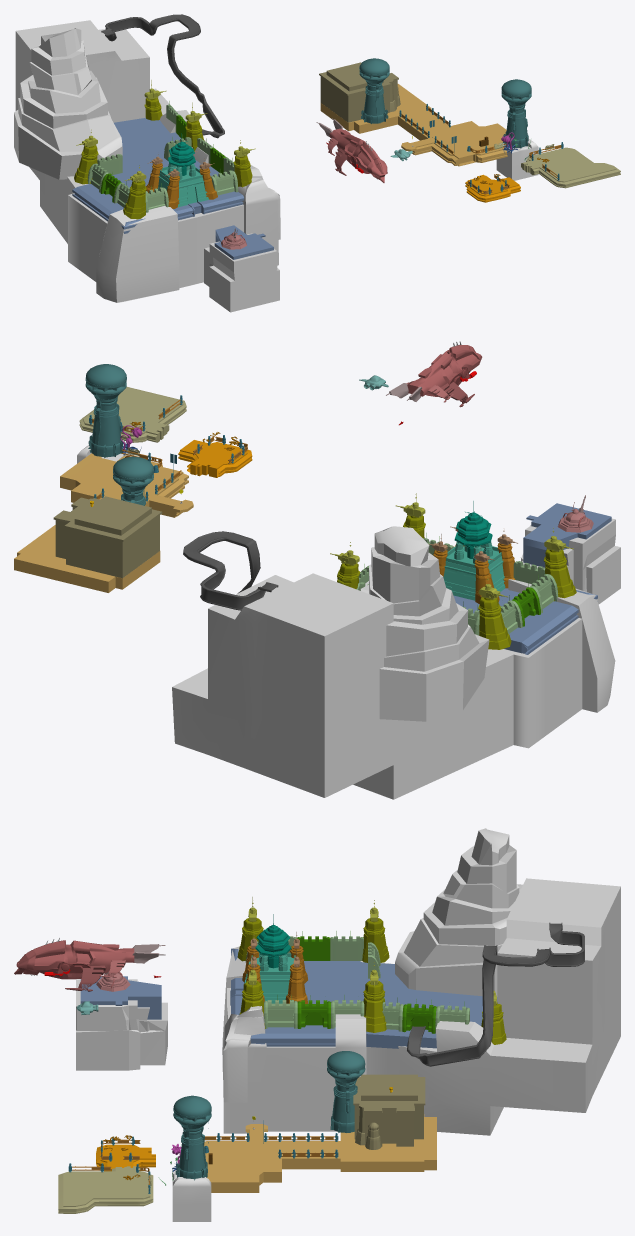
The model's file is platforms finished.fbx.
The picture shows the model from 3 angles, top to bottom: view 1: azimuth 30°, elevation 25°; view 2: azimuth 150°, elevation 25°; view 3: azimuth 270°, elevation 25°; orthographic projection. The views are drawn at different scales.
Parts seen in each view (by area): view 1: Citadel_rcok_plat, rock_formation, Platform_C, base (×4), Far_Plat_A, arch_rock_plat, Base (×2), Platform_A, magnet_ion_path, Far_Plat_B, Citadel1:citadel_main, City_wall (×2) (+4 smaller); view 2: Citadel_rcok_plat, rock_formation, base (×3), Platform_C, Base (×2), arch_rock_plat, magnet_ion_path, Platform_A, Far_Plat_A, Far_Plat_B, Platform_B, Citadel1:citadel_main (+3 smaller); view 3: Citadel_rcok_plat, rock_formation, base (×6), Platform_C, Far_Plat_A, arch_rock_plat, Base (×2), magnet_ion_path, Platform_A, City_wall (×4), Cit_wall_opening (×3), rock_front (+5 smaller).
Boxes of the visible parts, bbox=[...] form: Citadel_rcok_plat: bbox=[15, 20, 280, 302]; rock_formation: bbox=[14, 28, 122, 179]; Platform_C: bbox=[320, 84, 507, 166]; base (×4): bbox=[74, 62, 398, 187]; Far_Plat_A: bbox=[72, 118, 244, 233]; arch_rock_plat: bbox=[204, 233, 279, 312]; Base (×2): bbox=[359, 58, 531, 148]; Platform_A: bbox=[521, 147, 620, 188]; magnet_ion_path: bbox=[101, 14, 224, 138]; Far_Plat_B: bbox=[214, 225, 273, 259]; Citadel1:citadel_main: bbox=[157, 165, 208, 207]; City_wall (×2): bbox=[145, 170, 238, 212]; Citadel_rcok_plat: bbox=[172, 573, 615, 799]; rock_formation: bbox=[360, 526, 489, 721]; base (×3): bbox=[53, 345, 511, 649]; Platform_C: bbox=[14, 453, 193, 592]; Base (×2): bbox=[85, 364, 153, 505]; arch_rock_plat: bbox=[521, 518, 620, 604]; magnet_ion_path: bbox=[183, 531, 278, 610]; Platform_A: bbox=[79, 387, 186, 442]; Far_Plat_A: bbox=[453, 588, 597, 654]; Far_Plat_B: bbox=[523, 503, 611, 567]; Platform_B: bbox=[178, 440, 252, 477]; Citadel1:citadel_main: bbox=[443, 544, 505, 600]; Citadel_rcok_plat: bbox=[222, 878, 620, 1135]; rock_formation: bbox=[395, 828, 522, 996]; base (×6): bbox=[14, 918, 425, 1146]; Platform_C: bbox=[204, 1114, 436, 1192]; Far_Plat_A: bbox=[230, 948, 497, 1048]; arch_rock_plat: bbox=[76, 979, 167, 1070]; Base (×2): bbox=[173, 1051, 365, 1180]; magnet_ion_path: bbox=[407, 922, 584, 1066]; Platform_A: bbox=[58, 1166, 153, 1213]; City_wall (×4): bbox=[264, 936, 469, 1033]; Cit_wall_opening (×3): bbox=[297, 936, 436, 1033]; rock_front: bbox=[172, 1170, 211, 1221].
Bounding box in the file's own units: 92.23 × 36.92 × 87.12.
